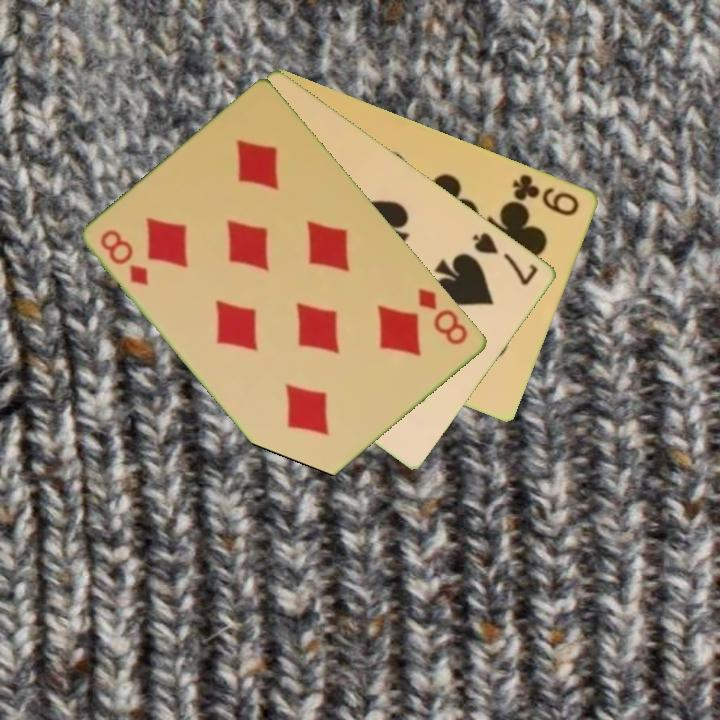7s: (469, 228, 542, 289)
8d: (414, 285, 471, 348), (97, 226, 153, 289)
9c: (509, 170, 583, 219)
